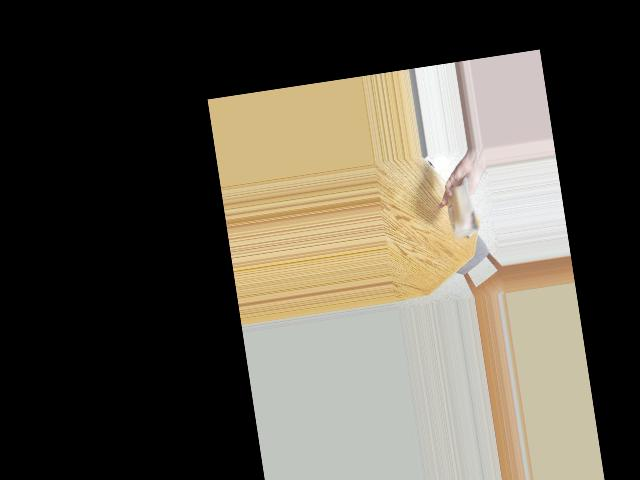cheese: (438, 181, 484, 239)
